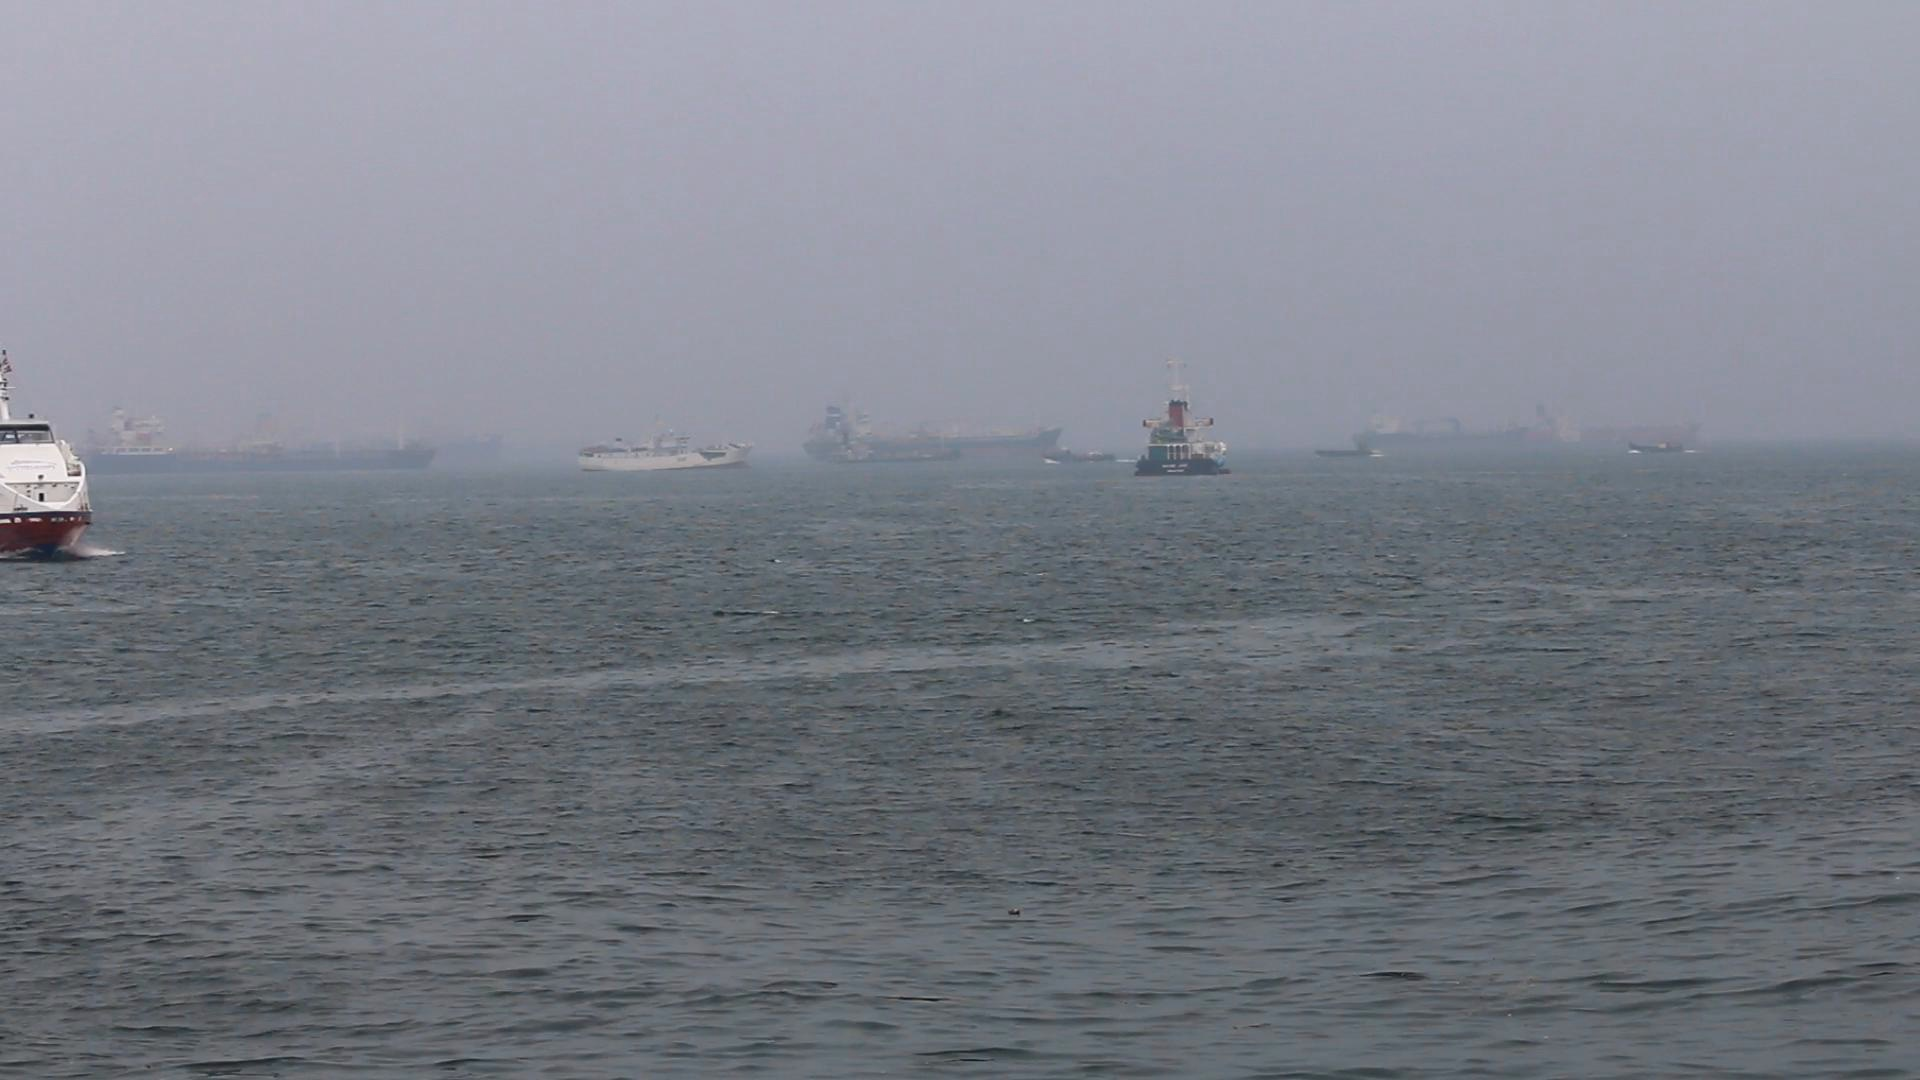Container Ship: (95, 407, 444, 475), (795, 396, 1068, 456), (1135, 367, 1226, 479), (1341, 405, 1563, 443), (579, 429, 757, 471), (1578, 415, 1710, 442)
